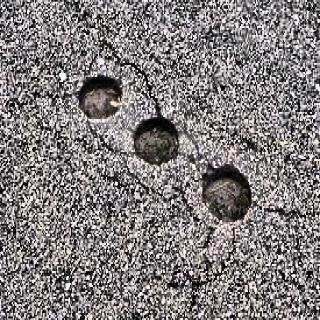pothole: (199, 160, 253, 228), (130, 112, 184, 168), (74, 74, 123, 120)
